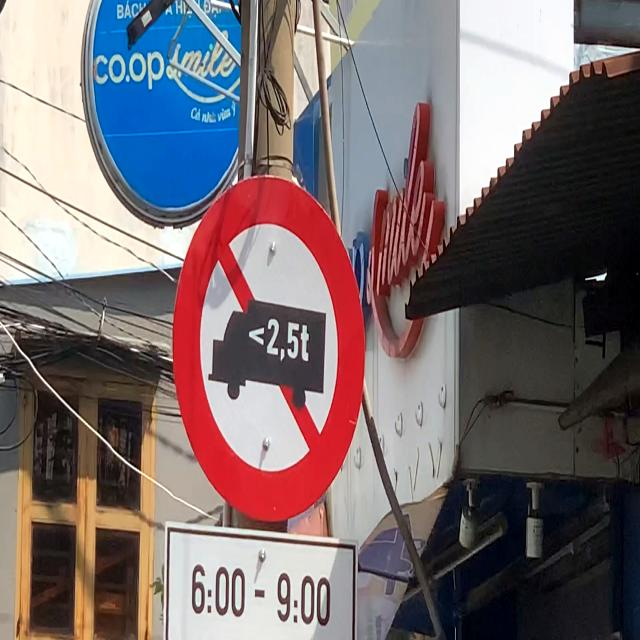P.106b: (171, 175, 367, 528)
